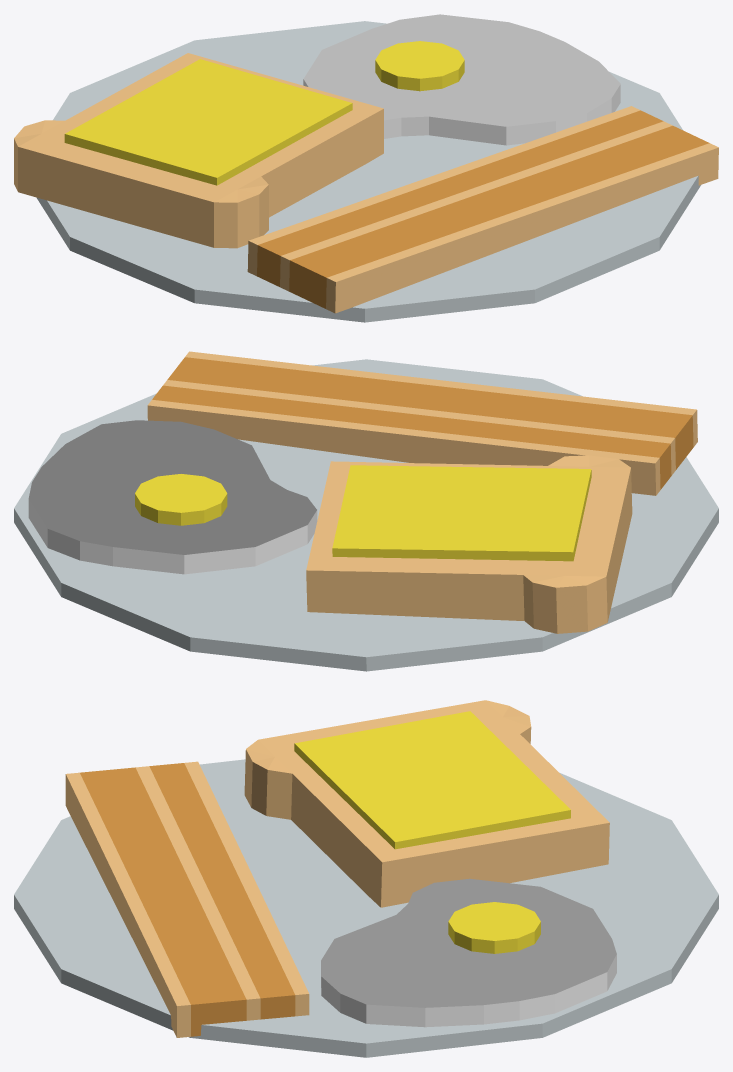
File: town_diner.glb
3 renders of one model, top to bottom at view 1: azimuth 30°, elevation 25°; view 2: azimuth 150°, elevation 25°; view 3: azimuth 270°, elevation 25°, orthographic. The views are drawn at different scales.
Visible parts, largest first — view 1: group1294553331, group736332684, group1378364260, group1544114982, group819459327, group1955606126, group1846327215, group1238919241, group1844415629, group1426239630; view 2: group1294553331, group1378364260, group736332684, group1544114982, group1955606126, group1426239630, group1846327215, group1238919241, group819459327, group1844415629; view 3: group1294553331, group1378364260, group736332684, group1544114982, group1955606126, group1846327215, group819459327, group1238919241, group1844415629, group1426239630.
Part boxes in pixels (x1,y1,x2,y2): group1294553331: [37, 21, 700, 322]; group736332684: [14, 53, 383, 248]; group1378364260: [303, 14, 620, 145]; group1544114982: [64, 59, 352, 185]; group819459327: [326, 143, 718, 313]; group1955606126: [289, 125, 709, 308]; group1846327215: [257, 110, 663, 286]; group1238919241: [375, 41, 464, 91]; group1844415629: [280, 121, 672, 291]; group1426239630: [247, 106, 640, 276]; group1294553331: [14, 359, 718, 671]; group1378364260: [28, 420, 317, 574]; group736332684: [306, 455, 632, 633]; group1544114982: [332, 465, 591, 561]; group1955606126: [167, 357, 693, 469]; group1426239630: [147, 399, 660, 495]; group1846327215: [152, 385, 671, 489]; group1238919241: [135, 474, 227, 525]; group819459327: [185, 351, 697, 446]; group1844415629: [163, 380, 675, 475]; group1294553331: [14, 759, 718, 1057]; group1378364260: [321, 878, 616, 1027]; group736332684: [244, 700, 609, 907]; group1544114982: [294, 711, 570, 849]; group1955606126: [80, 767, 246, 1036]; group1846327215: [149, 763, 295, 1019]; group819459327: [65, 772, 190, 1037]; group1238919241: [448, 902, 540, 953]; group1844415629: [135, 766, 260, 1020]; group1426239630: [184, 761, 309, 1016].
Size of the model in its own units: 0.99 by 0.1135 by 0.99.
